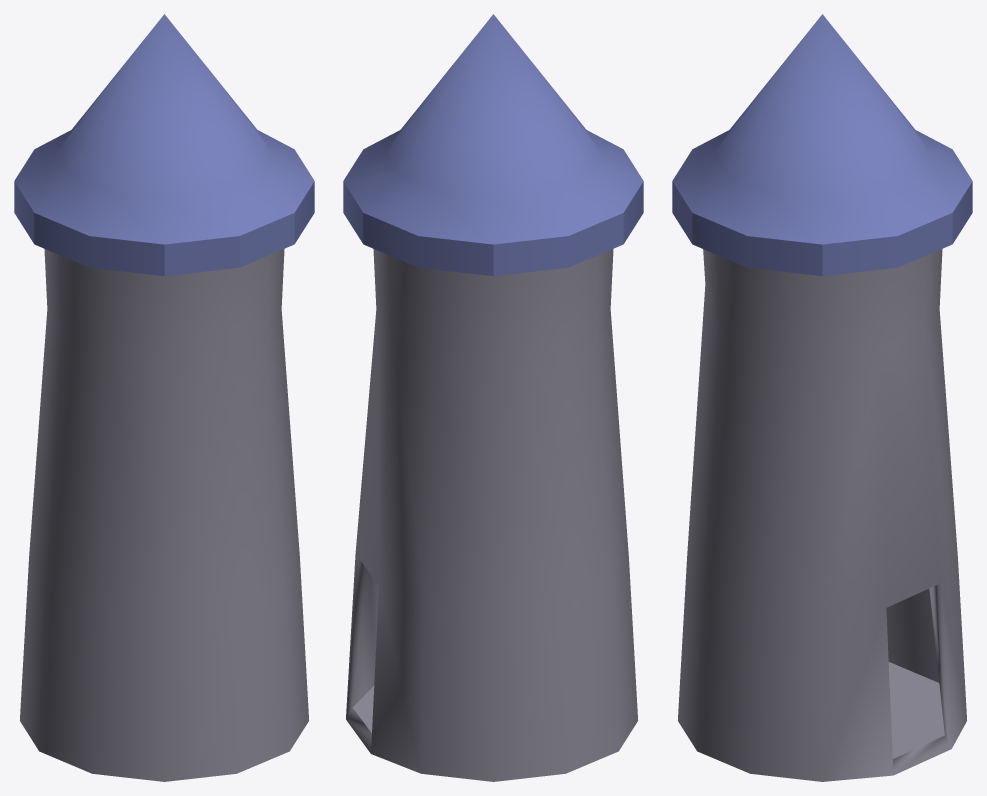
3 views of the same model, side by side, from view 1: azimuth 30°, elevation 25°; view 2: azimuth 150°, elevation 25°; view 3: azimuth 270°, elevation 25° (orthographic).
Visible parts, largest first — view 1: Cylinder.007; view 2: Cylinder.007; view 3: Cylinder.007.
Part boxes in pixels (x1,y1,x2,y2): Cylinder.007: [14, 14, 314, 781]; Cylinder.007: [343, 14, 643, 781]; Cylinder.007: [672, 14, 972, 781].
Size of the model in its own units: 240 by 622 by 240.
